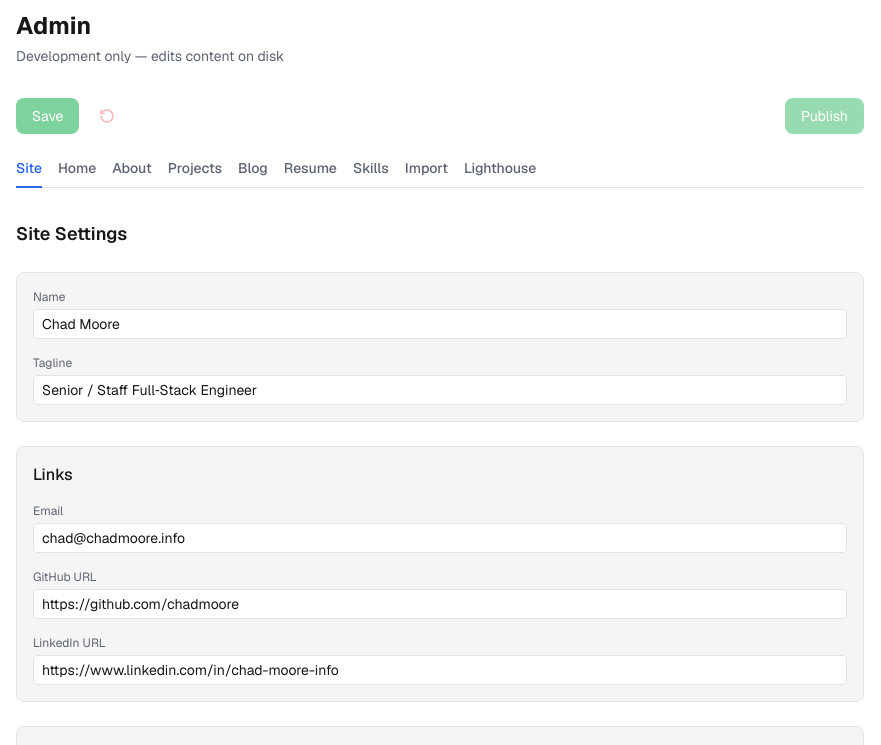
Test case: AdminPage › renders projects tab with heading and description fields
Check: the heading "Site Settings" is shown, box [16,222,127,245]
Click the button "Projects".
click(195, 173)  # box [168,158,222,188]
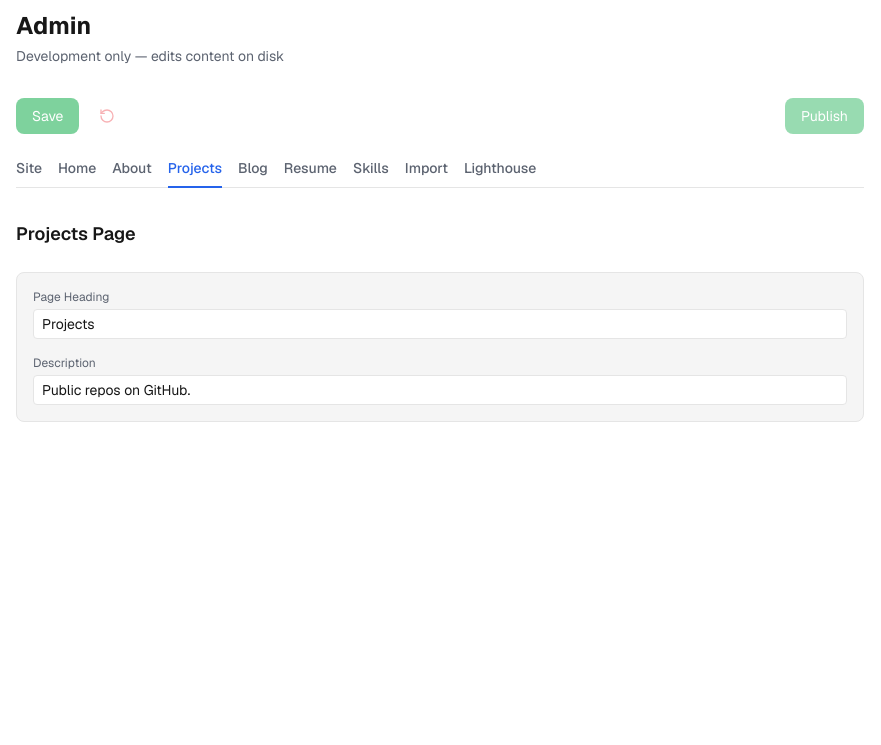
Check: the heading "Projects Page" is shown, box [16,222,136,245]
Check: the field showing "Projects" is shown, box [33,309,847,339]
Check: the field showing "Public repos on GitHub." is shown, box [33,375,847,405]
